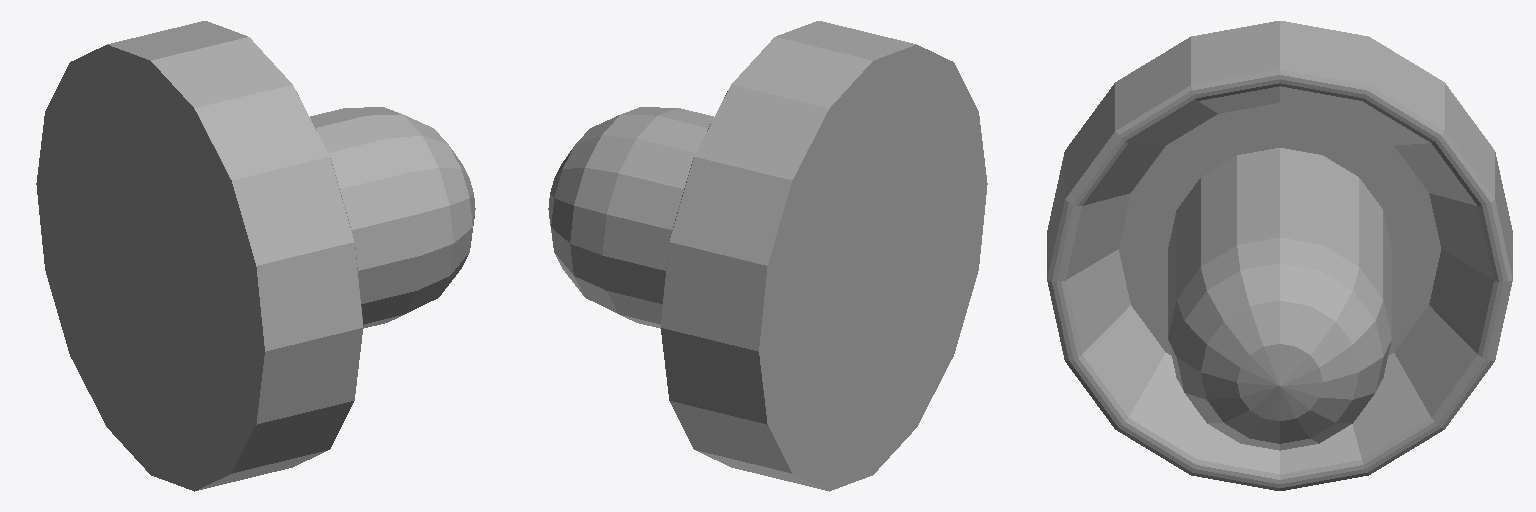
URDF robot description (panda):
<?xml version='1.0' encoding='utf-8'?>
<robot name="panda">

    <link name="link0">
      <inertial>
        <origin xyz="0 0 0.05" rpy="0 0 0" />
        <mass value="4" />
        <inertia ixx="0.4" iyy="0.4" izz="0.4" ixy="0" ixz="0" iyz="0" />
      </inertial>
      <visual>
        <geometry>
          <mesh filename="meshes/visual/link0.obj"/>
        </geometry>
      </visual>
      <collision>
        <geometry>
          <mesh filename="./meshes/collision/link0.obj"/>
        </geometry>
      </collision>
    </link>
    <link name="link1">
      <inertial>
        <origin xyz="0 0 -0.07" rpy="0 -0 0" />
        <mass value="4" />
        <inertia ixx="0.3" iyy="0.3" izz="0.3" ixy="0" ixz="0" iyz="0" />
      </inertial>
      <visual>
        <geometry>
          <mesh filename="meshes/visual/link1.obj"/>
        </geometry>
      </visual>
      <collision>
        <geometry>
          <mesh filename="./meshes/collision/link1.obj"/>
        </geometry>
      </collision>
    </link>
    <link name="link2">
      <inertial>
        <origin xyz="0 -0.1 0" rpy="0 -0 0" />
        <mass value="3" />
        <inertia ixx="0.3" iyy="0.3" izz="0.3" ixy="0" ixz="0" iyz="0" />
      </inertial>
      <visual>
        <geometry>
          <mesh filename="meshes/visual/link2.obj"/>
        </geometry>
      </visual>
      <collision>
        <geometry>
          <mesh filename="./meshes/collision/link2.obj"/>
        </geometry>
      </collision>
    </link>
    <link name="link3">
      <inertial>
        <origin xyz="0.04 0 -0.05" rpy="0 -0 0" />
        <mass value="3" />
        <inertia ixx="0.2" iyy="0.2" izz="0.2" ixy="0" ixz="0" iyz="0" />
      </inertial>
      <visual>
        <geometry>
          <mesh filename="meshes/visual/link3.obj"/>
        </geometry>
      </visual>
      <collision>
        <geometry>
          <mesh filename="./meshes/collision/link3.obj"/>
        </geometry>
      </collision>
    </link>
    <link name="link4">
      <inertial>
        <origin xyz="-0.04 0.05 0" rpy="0 -0 0" />
        <mass value="3" />
        <inertia ixx="0.2" iyy="0.2" izz="0.2" ixy="0" ixz="0" iyz="0" />
      </inertial>
      <visual>
        <geometry>
          <mesh filename="meshes/visual/link4.obj"/>
        </geometry>
      </visual>
      <collision>
        <geometry>
          <mesh filename="./meshes/collision/link4.obj"/>
        </geometry>
      </collision>
    </link>
    <link name="link5">
      <inertial>
        <origin xyz="0 0 -0.15" rpy="0 -0 0" />
        <mass value="3" />
        <inertia ixx="0.2" iyy="0.2" izz="0.2" ixy="0" ixz="0" iyz="0" />
      </inertial>
      <visual>
        <geometry>
          <mesh filename="meshes/visual/link5.obj"/>
        </geometry>
      </visual>
      <collision>
        <geometry>
          <mesh filename="./meshes/collision/link5.obj"/>
        </geometry>
      </collision>
    </link>
    <link name="link6">
      <inertial>
        <origin xyz="0.06 0 0" rpy="0 -0 0" />
        <mass value="2" />
        <inertia ixx="0.1" iyy="0.1" izz="0.1" ixy="0" ixz="0" iyz="0" />
      </inertial>
      <visual>
        <geometry>
          <mesh filename="meshes/visual/link6.obj"/>
        </geometry>
      </visual>
      <collision>
        <geometry>
          <mesh filename="./meshes/collision/link6.obj"/>
        </geometry>
      </collision>
    </link>
    <link name="link7">
      <inertial>
        <origin xyz="0 0 0.17" rpy="0 -0 0" />
        <mass value="0.5" />
        <inertia ixx="0.09" iyy="0.05" izz="0.07" ixy="0" ixz="0" iyz="0" />
      </inertial>
      <visual>
        <geometry>
          <mesh filename="meshes/visual/link7.obj"/>
        </geometry>
      </visual>
      <visual>
        <origin xyz="0 0 0.17" rpy="0 0 0" />
        <geometry>
          <mesh filename="meshes/visual/mallet_ver1.obj"/>
        </geometry>
      </visual>

      <!-- visual of collision box -->
      <!-- <visual>
        <origin xyz="0 0 0.11" rpy="0 0 0" />
	        <geometry>
	          <cylinder radius="0.055" length="0.09" />
	        </geometry>
      </visual> -->
      <collision>
        <!-- <geometry>
          <mesh filename="./meshes/collision/link7.obj"/>
        </geometry> -->
        <origin xyz="0 0 0.11" rpy="0 0 0" />
	      <geometry>
	          <cylinder radius="0.055" length="0.09" />
	      </geometry>
      </collision>
    </link>
    <joint name="joint1" type="revolute">
      <safety_controller k_position="100.0" k_velocity="40.0" soft_lower_limit="-2.8973" soft_upper_limit="2.8973"/>
      <origin rpy="0 0 0" xyz="0 0 0.333"/>
      <parent link="link0"/>
      <child link="link1"/>
      <axis xyz="0 0 1"/>
      <calibration falling="-80.0" />
      <limit effort="87" lower="-2.8973" upper="2.8973" velocity="2.1750"/>
    </joint>
    <joint name="joint2" type="revolute">
      <safety_controller k_position="100.0" k_velocity="40.0" soft_lower_limit="-1.7628" soft_upper_limit="1.7628"/>
      <origin rpy="-1.57079632679 0 0" xyz="0 0 0"/>
      <parent link="link1"/>
      <child link="link2"/>
      <axis xyz="0 0 1"/>
      <calibration falling="-45.0" />
      <limit effort="87" lower="-1.7628" upper="1.7628" velocity="2.1750"/>
    </joint>
    <joint name="joint3" type="revolute">
      <safety_controller k_position="100.0" k_velocity="40.0" soft_lower_limit="-2.8973" soft_upper_limit="2.8973"/>
      <origin rpy="1.57079632679 0 0" xyz="0 -0.316 0"/>
      <parent link="link2"/>
      <child link="link3"/>
      <axis xyz="0 0 1"/>
      <limit effort="87" lower="-2.8973" upper="2.8973" velocity="2.1750"/>
    </joint>
    <joint name="joint4" type="revolute">
      <safety_controller k_position="100.0" k_velocity="40.0" soft_lower_limit="-3.0718" soft_upper_limit="-0.0698"/>
      <origin rpy="1.57079632679 0 0" xyz="0.0825 0 0"/>
      <parent link="link3"/>
      <child link="link4"/>
      <axis xyz="0 0 1"/>
      <calibration falling="-125.0" />
      <limit effort="87" lower="-3.0718" upper="-0.0698" velocity="2.1750"/>
    </joint>
    <joint name="joint5" type="revolute">
      <safety_controller k_position="100.0" k_velocity="40.0" soft_lower_limit="-2.8973" soft_upper_limit="2.8973"/>
      <origin rpy="-1.57079632679 0 0" xyz="-0.0825 0.384 0"/>
      <parent link="link4"/>
      <child link="link5"/>
      <axis xyz="0 0 1"/>
      <limit effort="12" lower="-2.8973" upper="2.8973" velocity="2.6100"/>
    </joint>
    <joint name="joint6" type="revolute">
      <safety_controller k_position="100.0" k_velocity="40.0" soft_lower_limit="-0.0175" soft_upper_limit="3.7525"/>
      <origin rpy="1.57079632679 0 0" xyz="0 0 0"/>
      <parent link="link5"/>
      <child link="link6"/>
      <axis xyz="0 0 1"/>
      <calibration falling="80.0" />
      <limit effort="12" lower="-0.0175" upper="3.7525" velocity="2.6100"/>
    </joint>
    <joint name="joint7" type="revolute">
      <safety_controller k_position="100.0" k_velocity="40.0" soft_lower_limit="-2.8973" soft_upper_limit="2.8973"/>
      <origin rpy="1.57079632679 0 0" xyz="0.088 0 0"/>
      <parent link="link6"/>
      <child link="link7"/>
      <axis xyz="0 0 1"/>
      <limit effort="12" lower="-2.8973" upper="2.8973" velocity="2.6100"/>
    </joint>
</robot>

--- What the picture shows (computed from the rendered views, not written in the file) ---
Views: 3 orthographic renders of the robot side by side, from view 1: azimuth 30°, elevation 25°; view 2: azimuth 150°, elevation 25°; view 3: azimuth 270°, elevation 25°.
Robot: panda — 8 links, 7 joints (7 revolute); root link link0; default pose: joints at zero except 1 at the middle of their limits (joint4 = -1.57).
Visible links, largest first — view 1: link7; view 2: link7; view 3: link7.
Link boxes in pixels (left/top/right/bottom): link7: left=36, top=21, right=475, bottom=491; link7: left=548, top=21, right=987, bottom=491; link7: left=1047, top=21, right=1512, bottom=490.
Size in the robot's own frame: 0.0883 by 0.1124 by 0.1124 metres.
Meshes: 9 distinct files referenced, 1 mesh visuals loaded (1 OBJ); not drawn: 8 (reference not matched to a file when rendering).